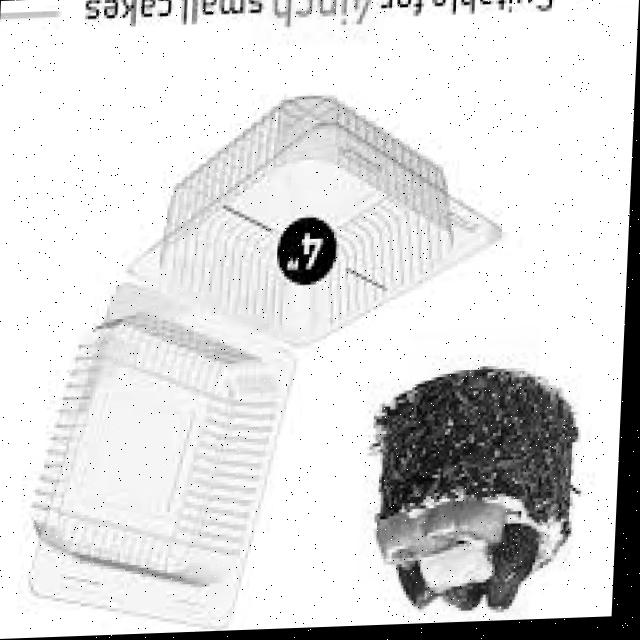disposable: (117, 82, 511, 365)
